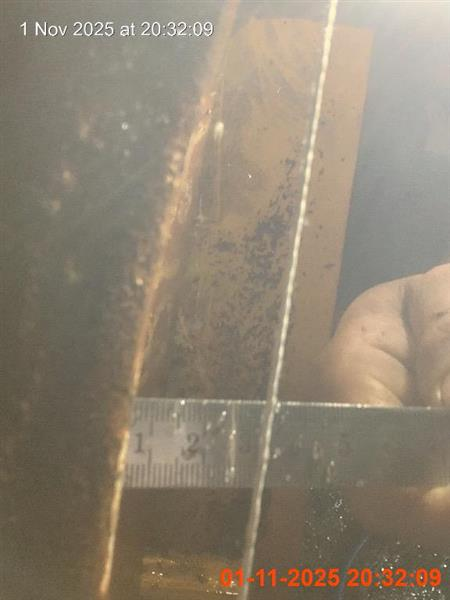dent: (315, 255, 449, 550), (317, 258, 449, 409)
